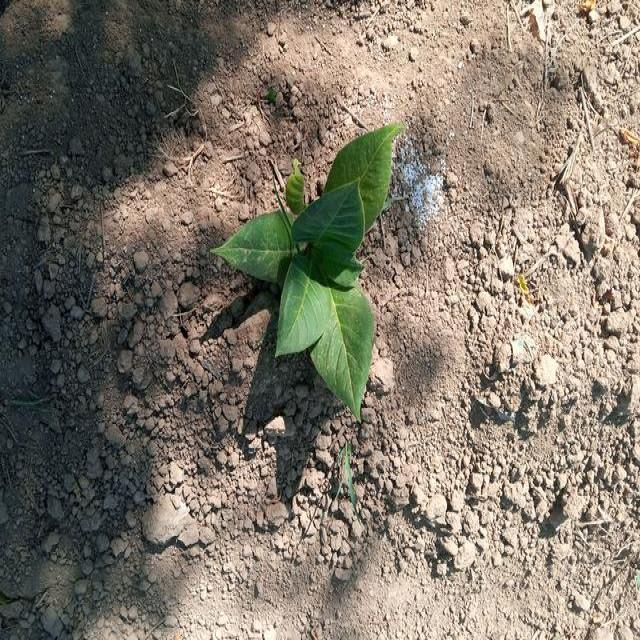crop: (232, 125, 392, 412)
